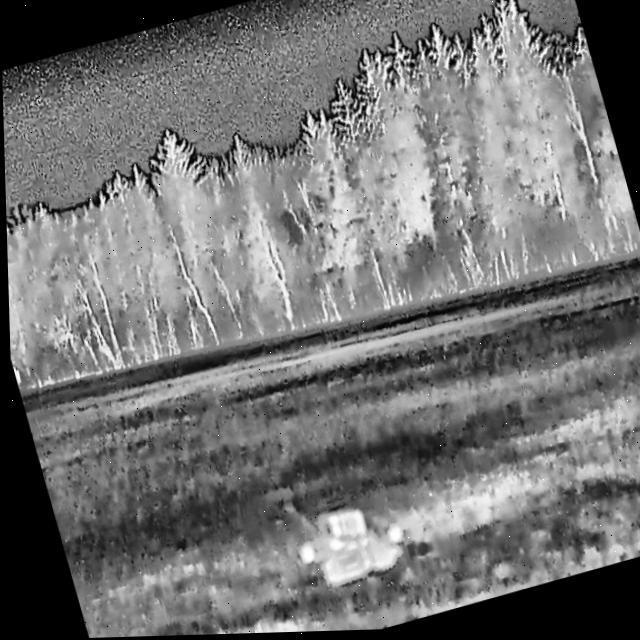drone: (288, 493, 407, 593)
